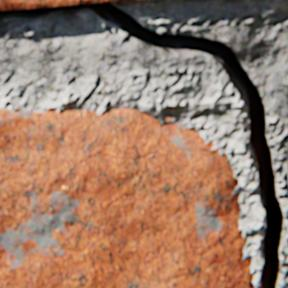brick: (0, 108, 253, 287), (0, 0, 138, 9), (165, 116, 171, 120)
crack: (0, 1, 287, 287)
